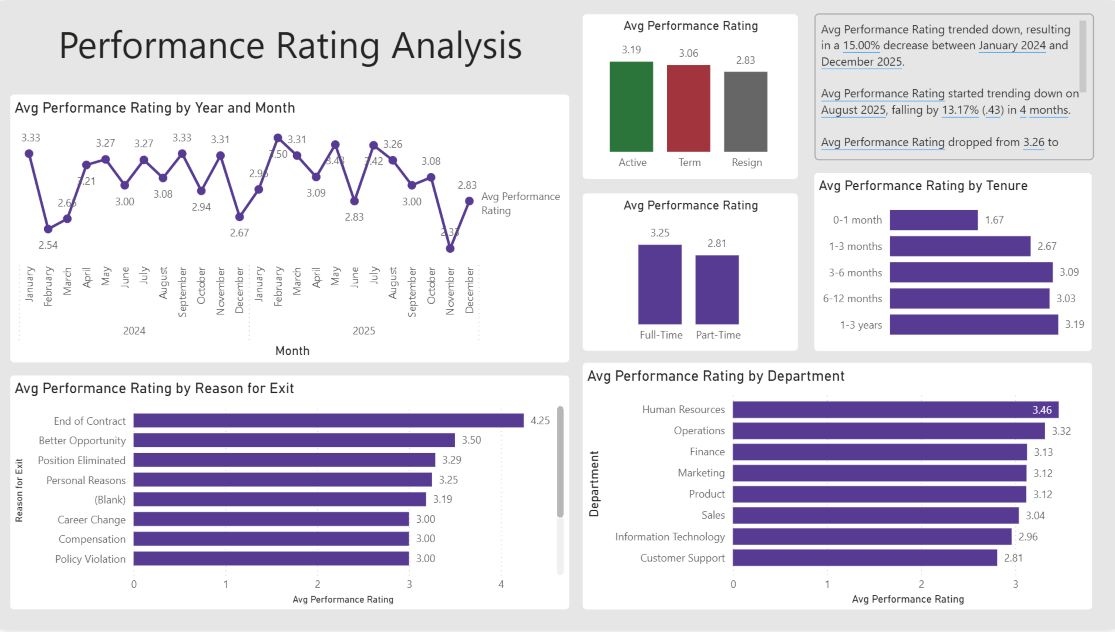

The page's visual inventory and layout, read from the dashboard file:
{"tool":"powerbi","page":{"name":"PERFORMANCE RATINGS","canvas":[1280,720],"ordinal":4},"visuals":[{"type":"lineChart","fields":{"Category":["dimDate.Date.Variation.Date Hierarchy.Year","dimDate.Date.Variation.Date Hierarchy.Month"],"Y":["Avg(Employees.Performance Rating)"]},"box":[11,106.4,642.1,308.2],"z":1000},{"type":"textbox","box":[12,14,642,84],"z":5000},{"type":"barChart","fields":{"Category":["Employees.Department"],"Y":["Avg(Employees.Performance Rating)"]},"box":[667.8,414.6,585.2,284.4],"z":6000},{"type":"barChart","fields":{"Category":["Employees.Tenure"],"Y":["Avg(Employees.Performance Rating)"]},"box":[933.8,196.3,319.2,205.5],"z":7000},{"type":"barChart","fields":{"Category":["Employees.Reason for Exit"],"Y":["Avg(Employees.Performance Rating)"]},"box":[11,429.3,642.1,269.7],"z":12000},{"type":"columnChart","title":"Avg Performance Rating","fields":{"Category":["Employees.Full or Part-Time"],"Y":["Avg(Employees.Performance Rating)"]},"box":[668,220,248,182],"z":12001},{"type":"columnChart","title":"Avg Performance Rating","fields":{"Y":["Avg(Employees.Performance Rating)"],"Category":["Employees.Employment Status"]},"box":[668,14,248,190],"z":12002},{"type":"textbox","box":[934,14,320,168],"z":12003}]}

Visuals, with their boxes in screenshot pixels (x1, y1, x2, y2), scaled from the page's 1280x720 canvas onto the 1115x632 screenshot:
lineChart - dimDate.Date.Variation.Date Hierarchy.Year x dimDate.Date.Variation.Date Hierarchy.Month: 10, 93, 569, 364
textbox: 10, 12, 570, 86
barChart - Employees.Department x Avg(Employees.Performance Rating): 582, 364, 1091, 614
barChart - Employees.Tenure x Avg(Employees.Performance Rating): 813, 172, 1091, 353
barChart - Employees.Reason for Exit x Avg(Employees.Performance Rating): 10, 377, 569, 614
"Avg Performance Rating" columnChart: 582, 193, 798, 353
"Avg Performance Rating" columnChart: 582, 12, 798, 179
textbox: 814, 12, 1092, 160
